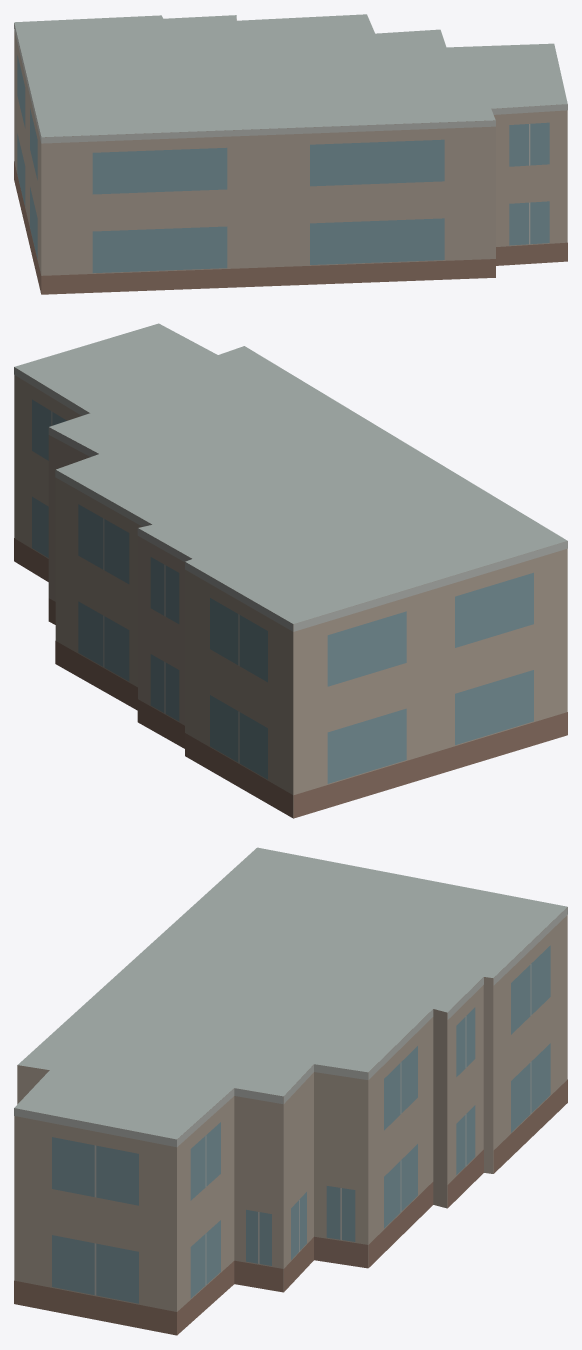
File: survey-upis-32530359.glb
The picture shows the model from 3 angles, top to bottom: view 1: azimuth 30°, elevation 25°; view 2: azimuth 150°, elevation 25°; view 3: azimuth 270°, elevation 25°; orthographic projection. The views are drawn at different scales.
Parts seen in each view (by area): view 1: survey-upis-32530359.tmp; view 2: survey-upis-32530359.tmp; view 3: survey-upis-32530359.tmp.
Boxes of the visible parts, left/top/right/bottom form: survey-upis-32530359.tmp: left=14, top=14, right=567, bottom=294; survey-upis-32530359.tmp: left=14, top=323, right=567, bottom=818; survey-upis-32530359.tmp: left=14, top=847, right=567, bottom=1335.
Bounding box in the file's own units: 19.5 × 6.1 × 15.63.
